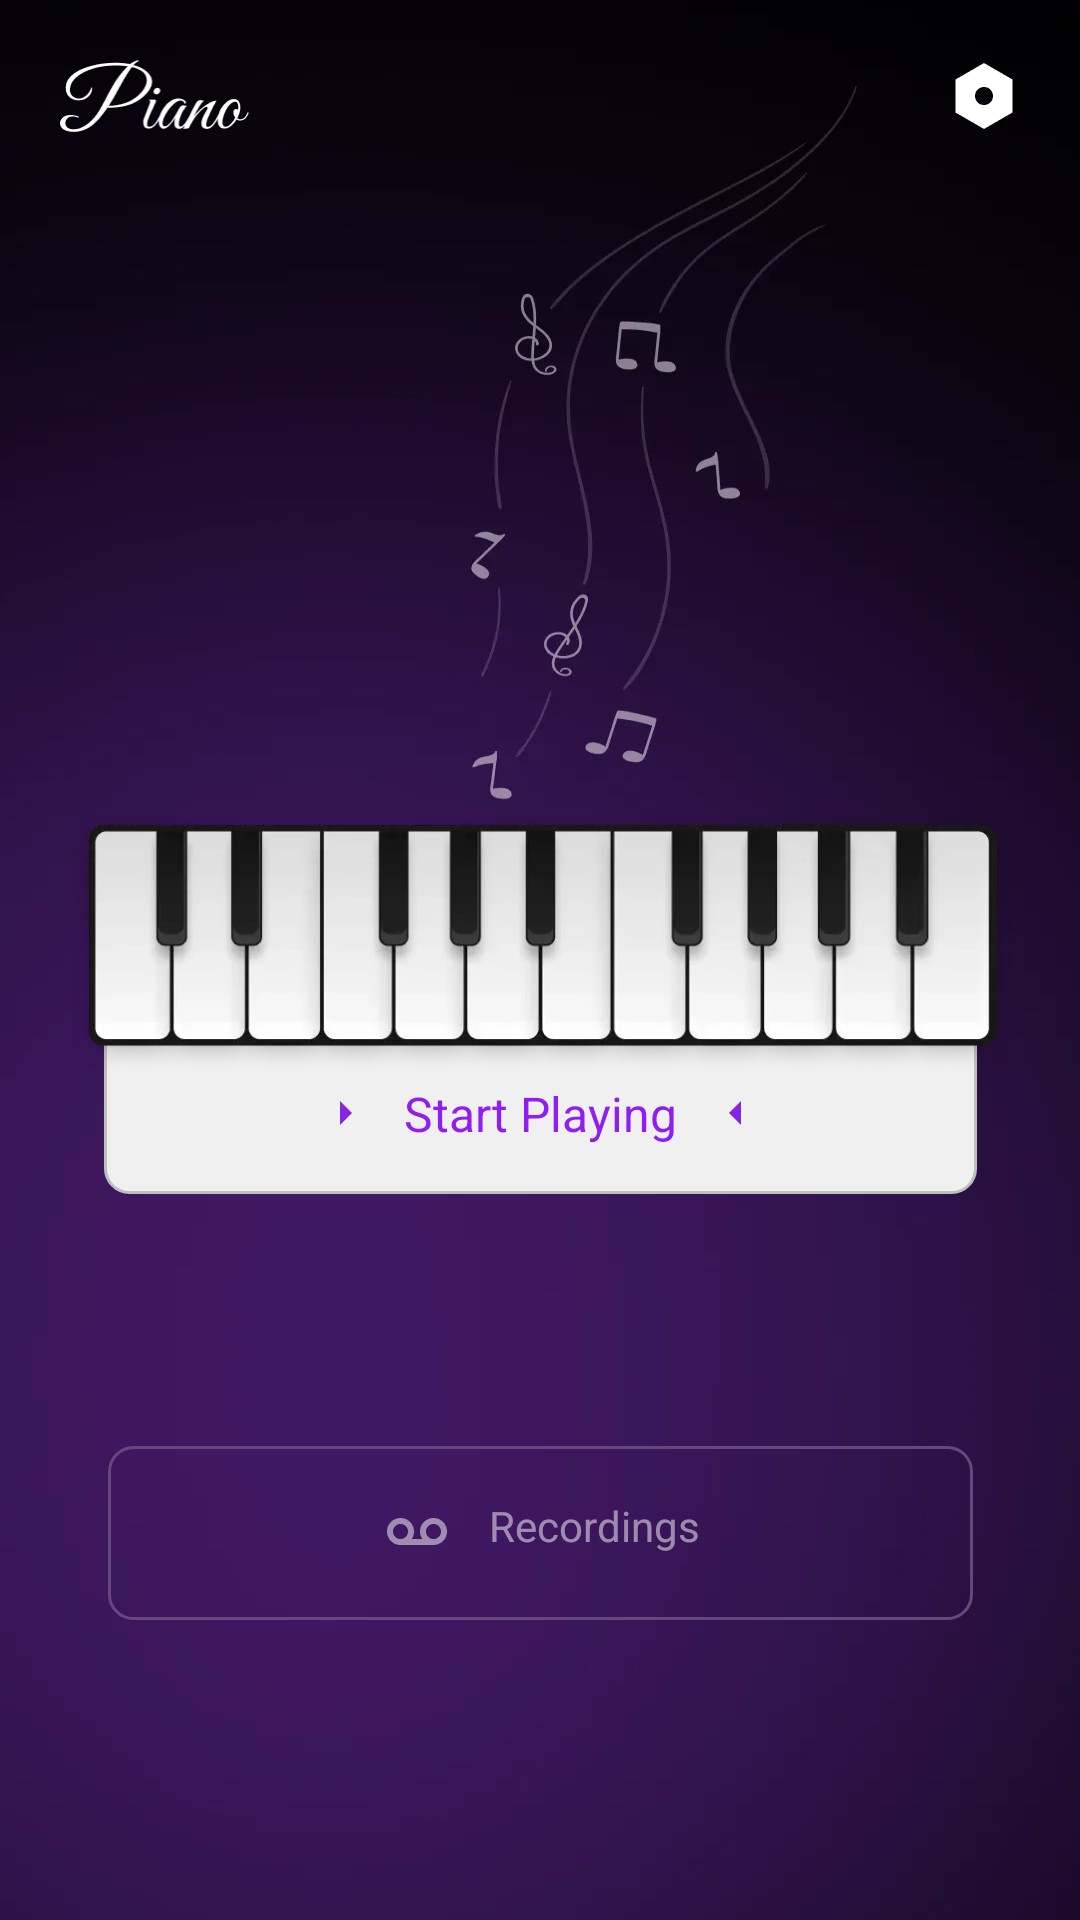

Point at icon controls on the screen. Image size 1080w x 1920h, points as point (x, y).
settings: point (984, 96)
